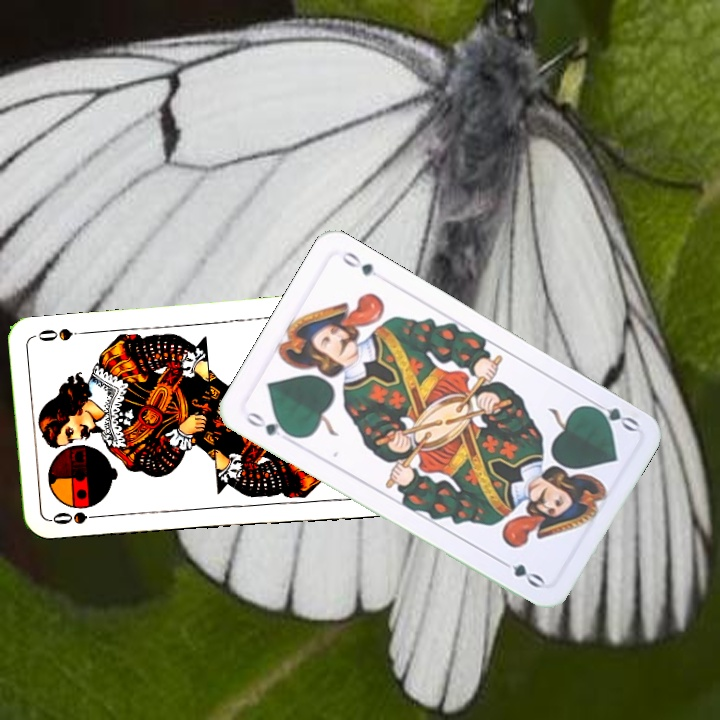GO: (584, 395, 641, 435), (241, 408, 297, 440)
SO: (48, 508, 107, 527)
